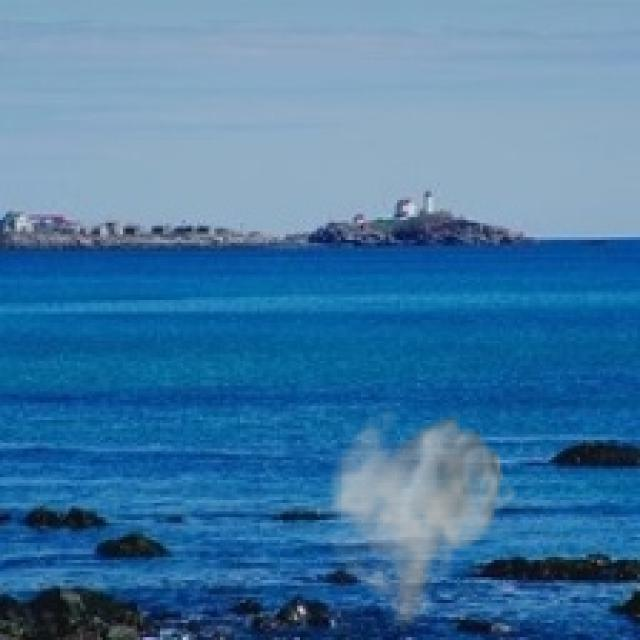smoke: (320, 394, 520, 637)
